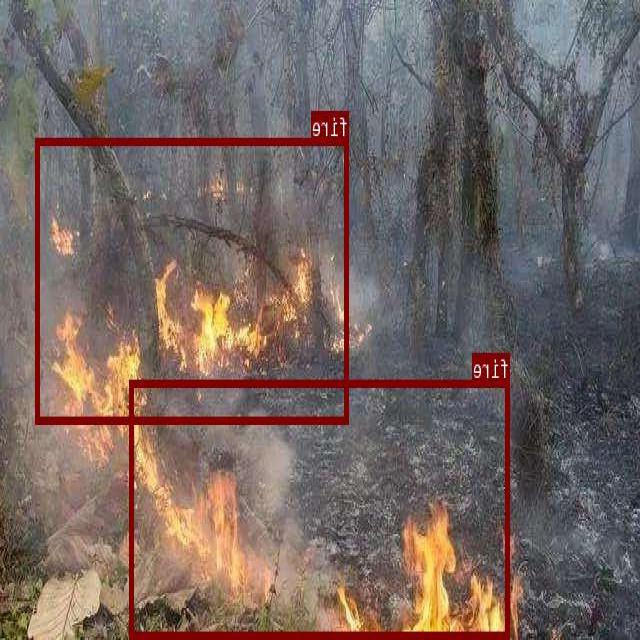fire: (131, 378, 511, 637), (37, 137, 349, 422)
